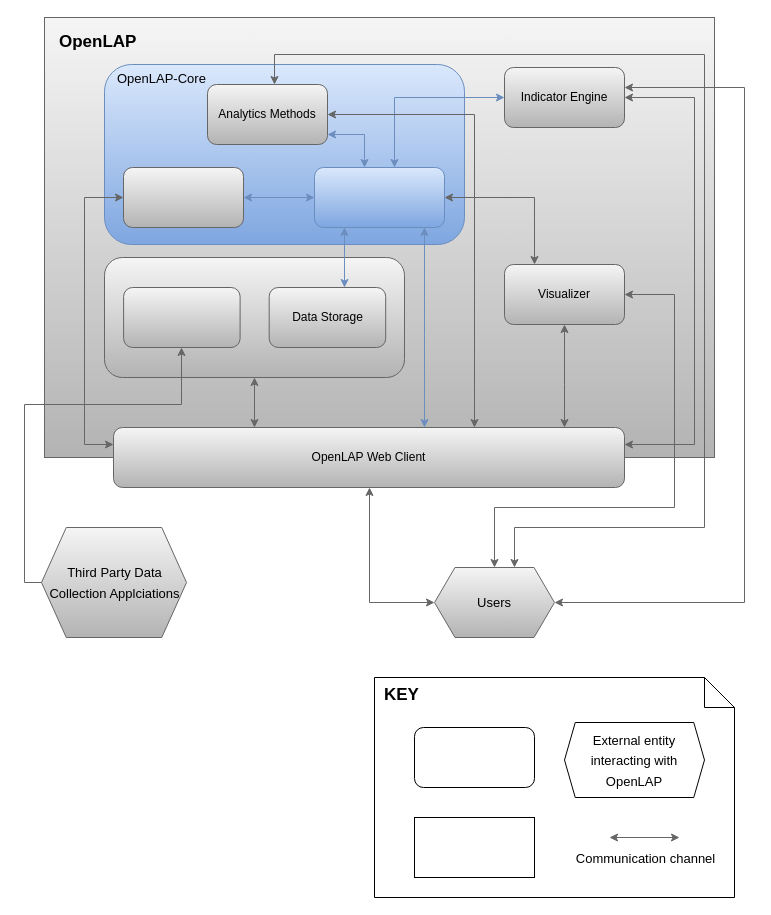
Some shapes in this 771 by 915 pixel diagram are drawn without their labels. Here are the shapes that lost their labels. From the top down, the box of each, then its label:
(122, 166, 244, 228): Analytics Modules
(314, 166, 444, 228): Analytics Engine
(123, 286, 240, 348): Data Collection
(414, 726, 534, 788): Macro Component
(414, 816, 534, 878): OpenLAP limits
